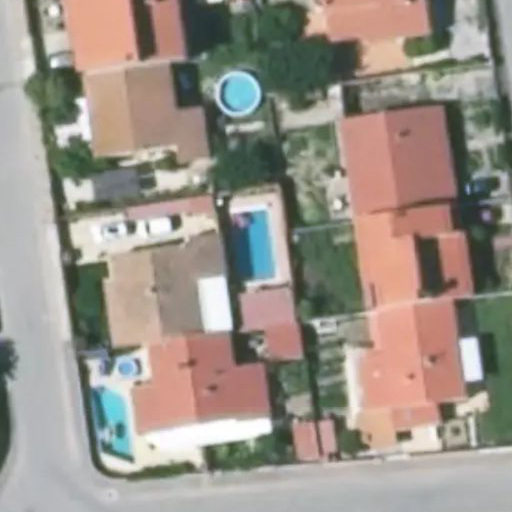pool: (233, 208, 278, 275)
